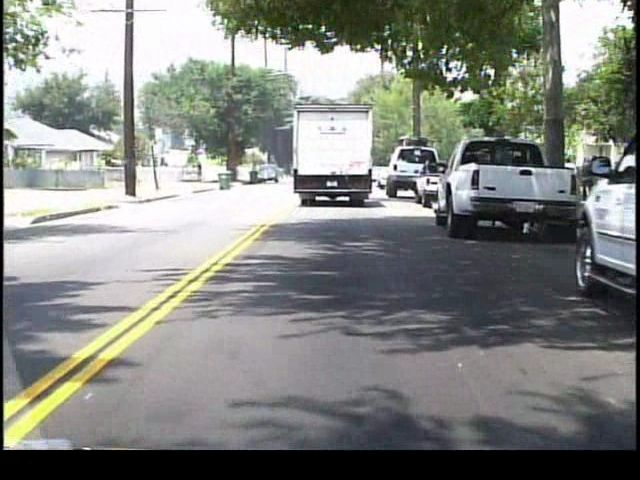person: (196, 162, 206, 185)
